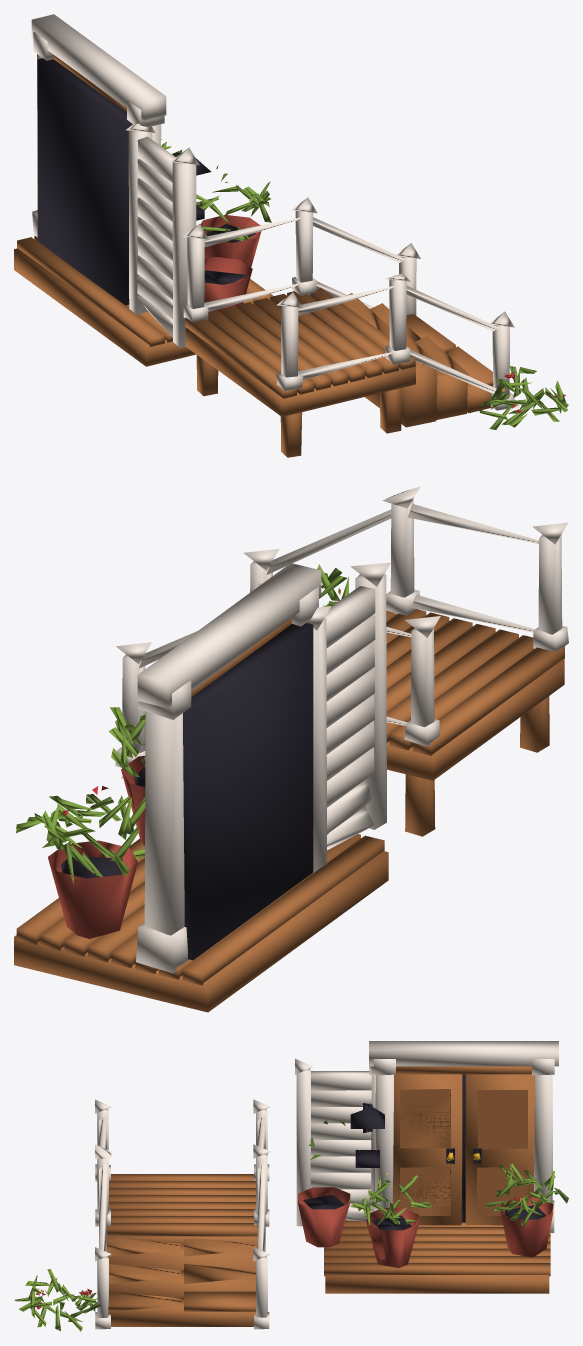
The picture shows the model from 3 angles, top to bottom: view 1: azimuth 30°, elevation 25°; view 2: azimuth 150°, elevation 25°; view 3: azimuth 270°, elevation 25°; orthographic projection. The views are drawn at different scales.
Bounding box in the file's own units: 3.12 × 2.78 × 6.86.
